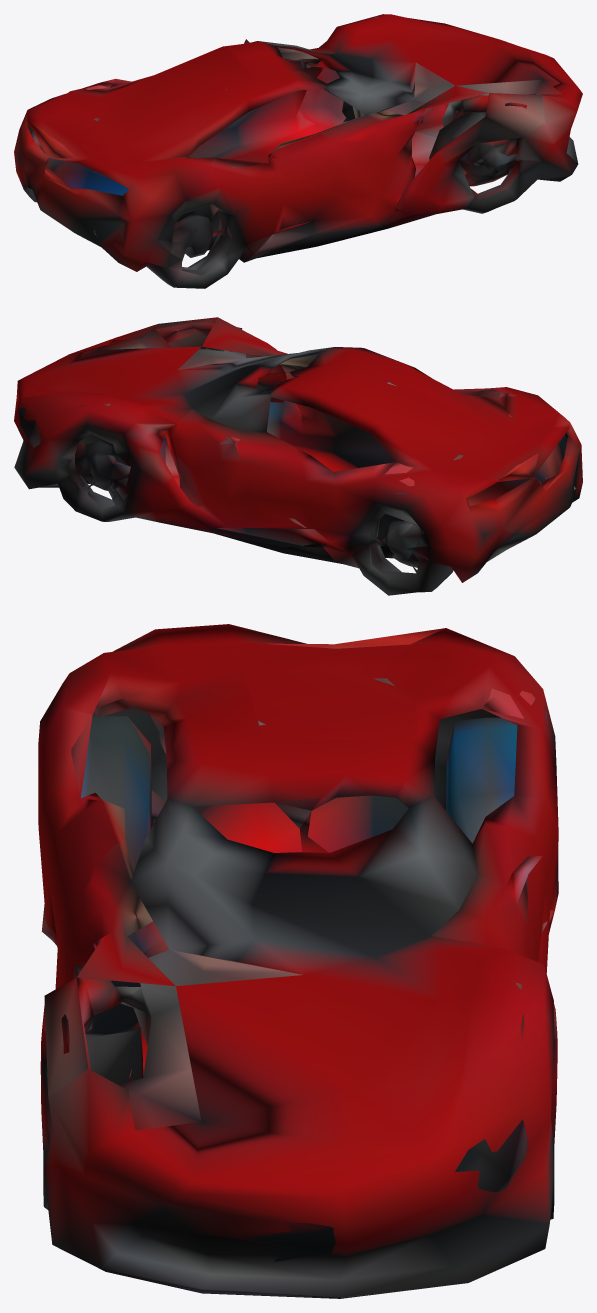
Rendered from 6448105-red-sports-car-1k.glb.
3 views of the same model, one above another, from view 1: azimuth 30°, elevation 25°; view 2: azimuth 150°, elevation 25°; view 3: azimuth 270°, elevation 25° (orthographic). The views are drawn at different scales.
Parts seen in each view (by area): view 1: Retopo_neural_node_f0c266a6-8abb-42bb-8d91-9e8c3058122f; view 2: Retopo_neural_node_f0c266a6-8abb-42bb-8d91-9e8c3058122f; view 3: Retopo_neural_node_f0c266a6-8abb-42bb-8d91-9e8c3058122f.
Boxes of the visible parts, <box> form: Retopo_neural_node_f0c266a6-8abb-42bb-8d91-9e8c3058122f: <box>14,14,582,288</box>; Retopo_neural_node_f0c266a6-8abb-42bb-8d91-9e8c3058122f: <box>14,317,582,595</box>; Retopo_neural_node_f0c266a6-8abb-42bb-8d91-9e8c3058122f: <box>38,624,558,1298</box>.
Bounding box in the file's own units: 0.9243 × 0.2581 × 0.4037.
